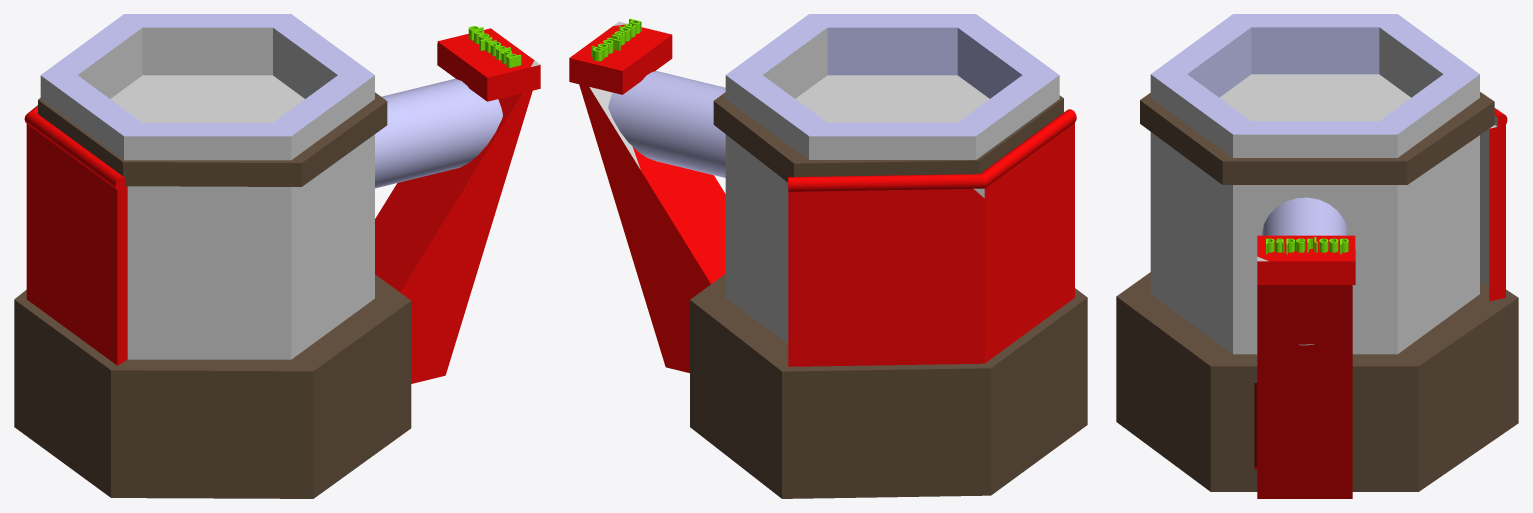
3 renders of one model, left to right at view 1: azimuth 30°, elevation 25°; view 2: azimuth 150°, elevation 25°; view 3: azimuth 270°, elevation 25°, orthographic.
Parts seen in each view (by area): view 1: mesh26-geometry-0, mesh26-geometry-2, mesh26-geometry-4, mesh26-geometry-1; view 2: mesh26-geometry-4, mesh26-geometry-2, mesh26-geometry-1, mesh26-geometry-0; view 3: mesh26-geometry-0, mesh26-geometry-2, mesh26-geometry-4, mesh26-geometry-1.
Boxes of the visible parts, bbox=[...] form: mesh26-geometry-0: bbox=[40, 27, 540, 359]; mesh26-geometry-2: bbox=[14, 92, 411, 498]; mesh26-geometry-4: bbox=[24, 28, 540, 383]; mesh26-geometry-1: bbox=[41, 14, 502, 188]; mesh26-geometry-4: bbox=[569, 24, 1076, 372]; mesh26-geometry-2: bbox=[690, 92, 1087, 498]; mesh26-geometry-1: bbox=[608, 14, 1058, 177]; mesh26-geometry-0: bbox=[589, 21, 1059, 343]; mesh26-geometry-0: bbox=[1150, 27, 1497, 354]; mesh26-geometry-2: bbox=[1116, 92, 1518, 491]; mesh26-geometry-4: bbox=[1257, 108, 1507, 498]; mesh26-geometry-1: bbox=[1151, 14, 1479, 235].
Size of the model in its own units: 0.678 by 0.5058 by 0.5334.
